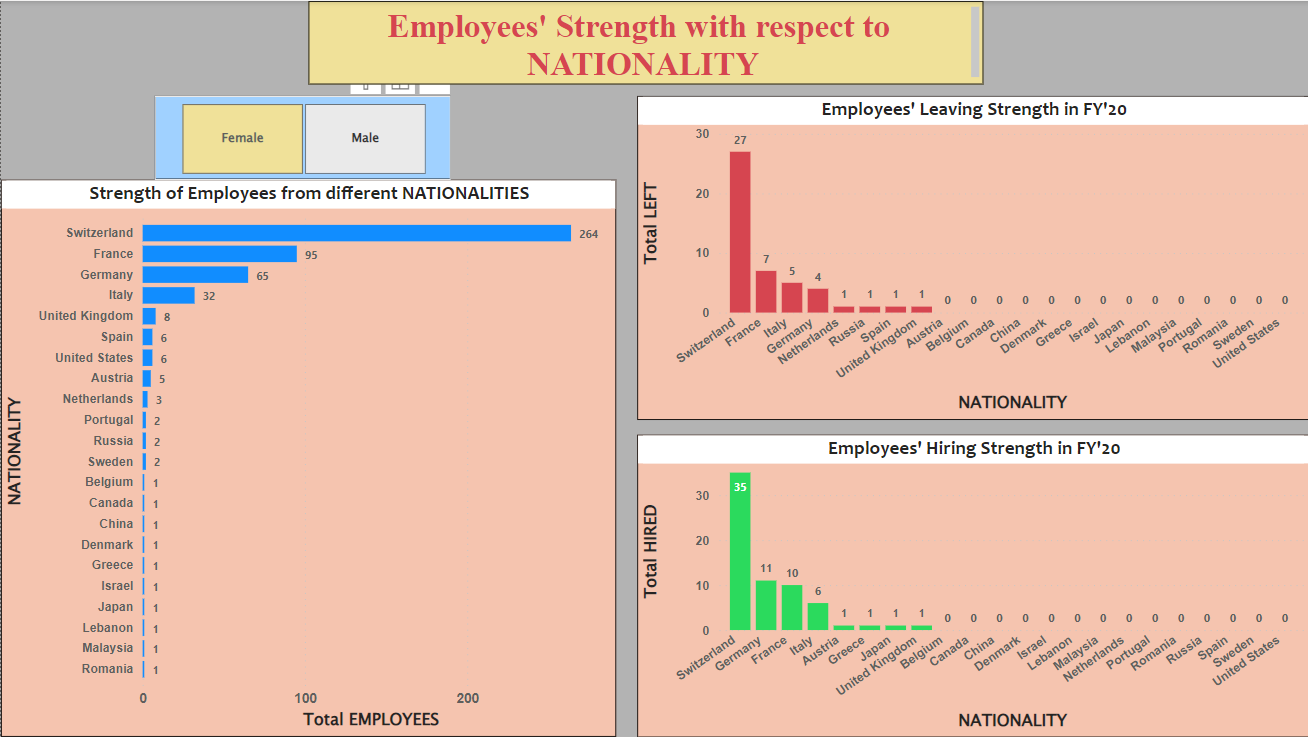

The page's visual inventory and layout, read from the dashboard file:
{"tool":"powerbi","page":{"name":"Page 3","canvas":[1280,720],"ordinal":2},"visuals":[{"type":"clusteredBarChart","title":"Strength of Employees from different NATIONALITIES","fields":{"Category":["Pharma Group AG.Nationality 1"],"Y":["Count(Pharma Group AG.Employee ID)"]},"box":[0,174.8,601.4,545.2],"z":0},{"type":"columnChart","title":"Employees'' Leaving Strength in FY''20","fields":{"Category":["Pharma Group AG.Nationality 1"],"Y":["Sum(Pharma Group AG.Leaver FY)"]},"box":[622.2,92.9,657.7,316.6],"z":1000},{"type":"columnChart","title":"Employees'' Hiring Strength in FY''20","fields":{"Category":["Pharma Group AG.Nationality 1"],"Y":["Pharma Group AG.Total_Hire_FY2020"]},"box":[622.2,424.2,657.7,295.8],"z":2000},{"type":"slicer","fields":{"Values":["Pharma Group AG.Gender"]},"box":[150.4,92.9,289.7,81.9],"z":3000},{"type":"textbox","box":[300.7,0,660.1,81.9],"z":4000}]}

Visuals, with their boxes in screenshot pixels (x1, y1, x2, y2), scaled from the page's 1280x720 canvas onto the 1308x737 screenshot:
"Strength of Employees from different NATIONALITIES" clusteredBarChart: [left=0, top=179, right=615, bottom=736]
"Employees'' Leaving Strength in FY''20" columnChart: [left=636, top=95, right=1307, bottom=419]
"Employees'' Hiring Strength in FY''20" columnChart: [left=636, top=434, right=1307, bottom=736]
slicer - Pharma Group AG.Gender: [left=154, top=95, right=450, bottom=179]
textbox: [left=307, top=0, right=982, bottom=84]
